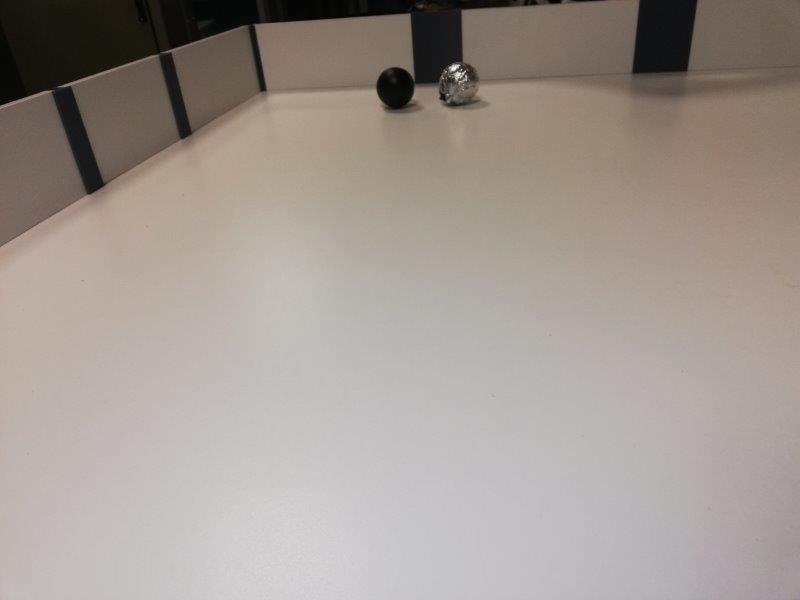bianca: (438, 61, 480, 105)
nera: (376, 68, 414, 106)
